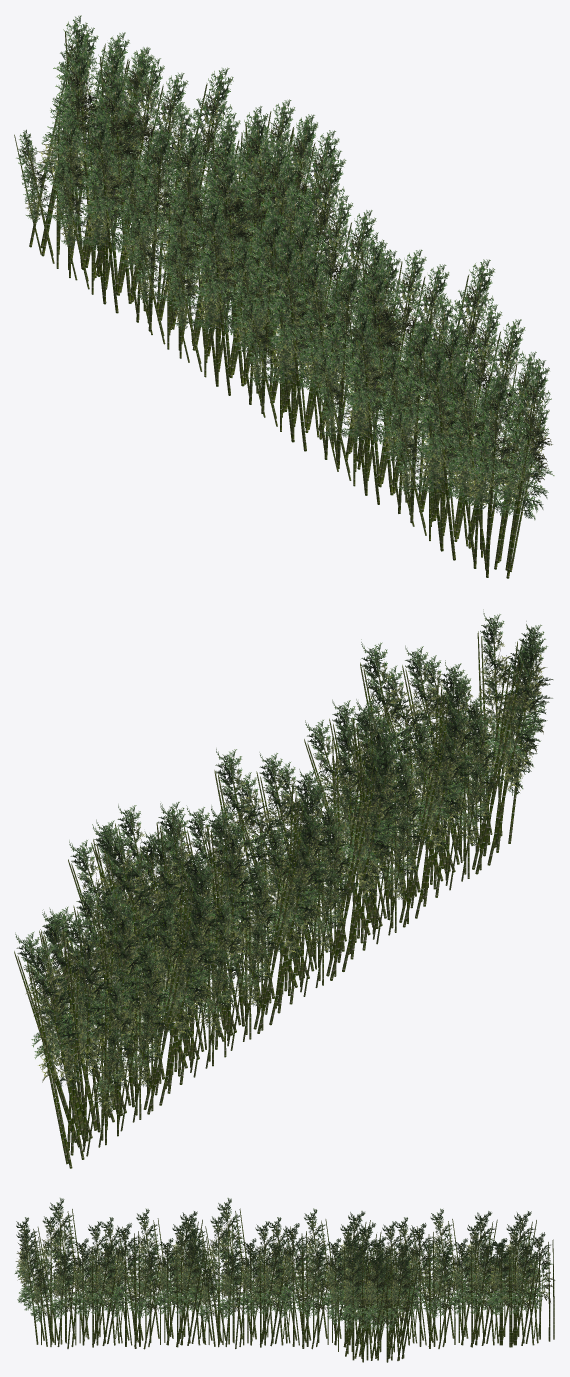
The model's file is Bamboo_Low_Plant.FBX.
3 renders of one model, top to bottom at view 1: azimuth 30°, elevation 25°; view 2: azimuth 150°, elevation 25°; view 3: azimuth 270°, elevation 25°, orthographic. The views are drawn at different scales.
Parts seen in each view (by area): view 1: Bamboo_Low008; view 2: Bamboo_Low008; view 3: Bamboo_Low008.
Part boxes in pixels (x1,y1,x2,y2): Bamboo_Low008: (14,15,554,578); Bamboo_Low008: (14,609,553,1168); Bamboo_Low008: (15,1198,555,1362).
Bounding box in the file's own units: 991 × 1265 × 4472.
